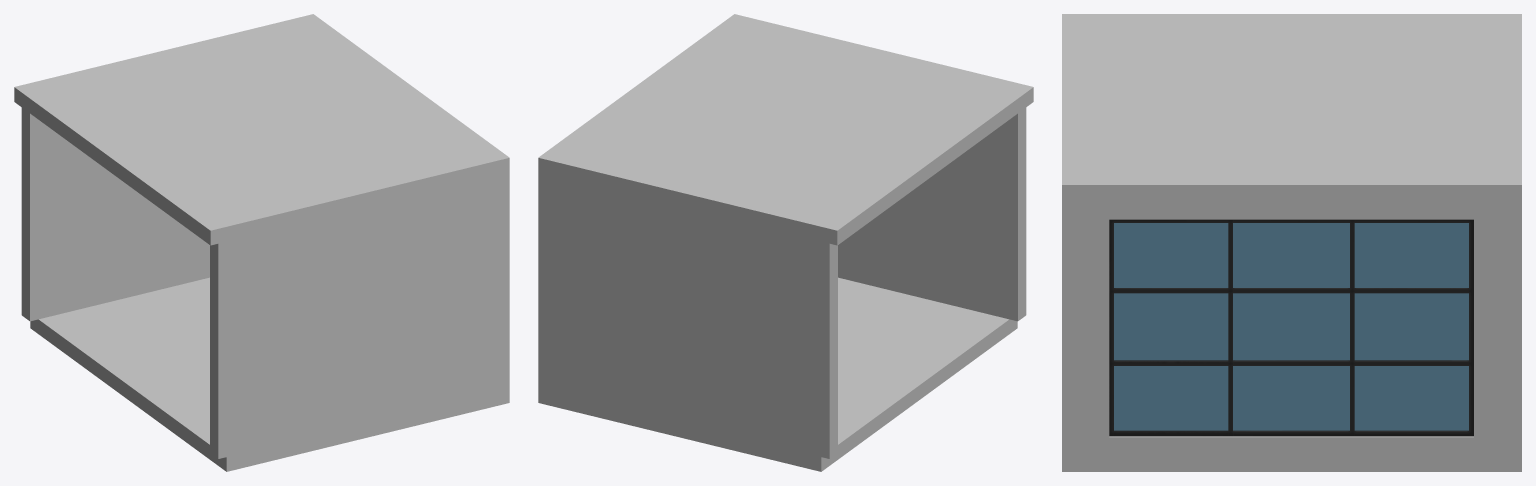
File: New Room.fbx
3 views of the same model, side by side, from view 1: azimuth 30°, elevation 25°; view 2: azimuth 150°, elevation 25°; view 3: azimuth 270°, elevation 25° (orthographic). The views are drawn at different scales.
Visible parts, largest first — view 1: ExtraRoomCeiling, Basic Wall Generic Wall- 200mm [477800], Basic Wall Generic Wall- 200mm [477532], ExtraRoomFloor, Basic Wall Generic Wall- 200mm [477681]; view 2: ExtraRoomCeiling, Basic Wall Generic Wall- 200mm [477532], Basic Wall Generic Wall- 200mm [477800], ExtraRoomFloor; view 3: ExtraRoomCeiling, System Panel Glazed [478376], Basic Wall Generic Wall- 200mm [477681], Rectangular Mullion 50x150mm [478415], ExtraRoomFloor, Basic Wall Generic Wall- 200mm [477532].
Part boxes in pixels (bbox=[...]): ExtraRoomCeiling: bbox=[14, 14, 509, 245]; Basic Wall Generic Wall- 200mm [477800]: bbox=[210, 176, 495, 458]; Basic Wall Generic Wall- 200mm [477532]: bbox=[21, 107, 209, 321]; ExtraRoomFloor: bbox=[30, 277, 509, 471]; Basic Wall Generic Wall- 200mm [477681]: bbox=[495, 172, 509, 391]; ExtraRoomCeiling: bbox=[538, 14, 1033, 245]; Basic Wall Generic Wall- 200mm [477532]: bbox=[538, 172, 837, 458]; Basic Wall Generic Wall- 200mm [477800]: bbox=[838, 107, 1026, 321]; ExtraRoomFloor: bbox=[538, 277, 1017, 471]; ExtraRoomCeiling: bbox=[1062, 14, 1521, 202]; System Panel Glazed [478376]: bbox=[1114, 223, 1468, 430]; Basic Wall Generic Wall- 200mm [477681]: bbox=[1062, 202, 1502, 454]; Rectangular Mullion 50x150mm [478415]: bbox=[1109, 219, 1473, 436]; ExtraRoomFloor: bbox=[1062, 454, 1521, 471]; Basic Wall Generic Wall- 200mm [477532]: bbox=[1502, 202, 1521, 454].
Bounding box in the file's own units: 421 × 330 × 479.
